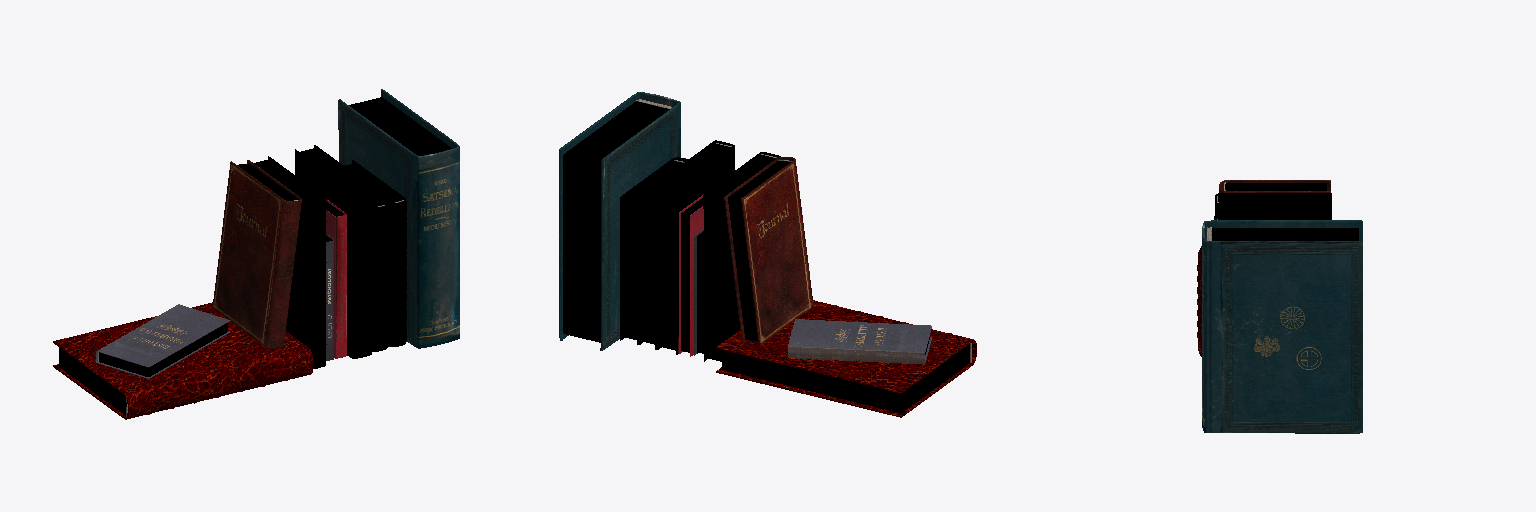
3 renders of one model, left to right at view 1: azimuth 30°, elevation 25°; view 2: azimuth 150°, elevation 25°; view 3: azimuth 270°, elevation 25°, orthographic.
Visible parts, largest first — view 1: nmodel_07_23_cover_1 nmodel_07_23_default, nmodel_07_23_default nmodel_07_23_cover_8, nmodel_07_23_default nmodel_07_23_cover_10, nmodel_07_23_default nmodel_07_23_cover_4, nmodel_07_23_default nmodel_07_23_book_paper_two, nmodel_07_23_default nmodel_07_23_cover_7, nmodel_07_23_default nmodel_07_23_cover_9, nmodel_07_23_default nmodel_07_23_cover_2, nmodel_07_23_default nmodel_07_23_book_paper_one, nmodel_07_23_default nmodel_07_23_cover_3, nmodel_07_23_default nmodel_07_23_cover_5, nmodel_07_23_default nmodel_07_23_cover_6; view 2: nmodel_07_23_default nmodel_07_23_book_paper_two, nmodel_07_23_default nmodel_07_23_book_paper_one, nmodel_07_23_default nmodel_07_23_cover_8, nmodel_07_23_cover_1 nmodel_07_23_default, nmodel_07_23_default nmodel_07_23_cover_10, nmodel_07_23_default nmodel_07_23_cover_9, nmodel_07_23_default nmodel_07_23_cover_4, nmodel_07_23_default nmodel_07_23_cover_7, nmodel_07_23_default nmodel_07_23_cover_5, nmodel_07_23_default nmodel_07_23_cover_2, nmodel_07_23_default nmodel_07_23_cover_3; view 3: nmodel_07_23_cover_1 nmodel_07_23_default, nmodel_07_23_default nmodel_07_23_book_paper_two, nmodel_07_23_default nmodel_07_23_cover_7, nmodel_07_23_default nmodel_07_23_book_paper_one, nmodel_07_23_default nmodel_07_23_cover_8.
Boxes of the visible parts, x1=… form: nmodel_07_23_cover_1 nmodel_07_23_default: x1=338, y1=89, x2=459, y2=348; nmodel_07_23_default nmodel_07_23_cover_8: x1=213, y1=160, x2=301, y2=348; nmodel_07_23_default nmodel_07_23_cover_10: x1=53, y1=302, x2=313, y2=419; nmodel_07_23_default nmodel_07_23_cover_4: x1=295, y1=145, x2=372, y2=358; nmodel_07_23_default nmodel_07_23_book_paper_two: x1=99, y1=97, x2=452, y2=376; nmodel_07_23_default nmodel_07_23_cover_7: x1=268, y1=156, x2=326, y2=368; nmodel_07_23_default nmodel_07_23_cover_9: x1=96, y1=304, x2=230, y2=378; nmodel_07_23_default nmodel_07_23_cover_2: x1=352, y1=160, x2=406, y2=346; nmodel_07_23_default nmodel_07_23_book_paper_one: x1=59, y1=163, x2=402, y2=415; nmodel_07_23_default nmodel_07_23_cover_3: x1=372, y1=192, x2=387, y2=351; nmodel_07_23_default nmodel_07_23_cover_5: x1=326, y1=199, x2=346, y2=358; nmodel_07_23_default nmodel_07_23_cover_6: x1=326, y1=234, x2=333, y2=360; nmodel_07_23_default nmodel_07_23_book_paper_two: x1=563, y1=101, x2=929, y2=361; nmodel_07_23_default nmodel_07_23_book_paper_one: x1=623, y1=161, x2=969, y2=412; nmodel_07_23_default nmodel_07_23_cover_8: x1=724, y1=157, x2=813, y2=345; nmodel_07_23_cover_1 nmodel_07_23_default: x1=559, y1=92, x2=680, y2=350; nmodel_07_23_default nmodel_07_23_cover_10: x1=716, y1=300, x2=976, y2=417; nmodel_07_23_default nmodel_07_23_cover_9: x1=788, y1=319, x2=931, y2=364; nmodel_07_23_default nmodel_07_23_cover_4: x1=657, y1=140, x2=734, y2=354; nmodel_07_23_default nmodel_07_23_cover_7: x1=703, y1=152, x2=780, y2=361; nmodel_07_23_default nmodel_07_23_cover_5: x1=678, y1=194, x2=703, y2=356; nmodel_07_23_default nmodel_07_23_cover_2: x1=620, y1=157, x2=688, y2=344; nmodel_07_23_default nmodel_07_23_cover_3: x1=638, y1=188, x2=656, y2=349; nmodel_07_23_cover_1 nmodel_07_23_default: x1=1202, y1=220, x2=1362, y2=433; nmodel_07_23_default nmodel_07_23_book_paper_two: x1=1212, y1=196, x2=1358, y2=240; nmodel_07_23_default nmodel_07_23_cover_7: x1=1214, y1=193, x2=1331, y2=219; nmodel_07_23_default nmodel_07_23_book_paper_one: x1=1225, y1=183, x2=1326, y2=190; nmodel_07_23_default nmodel_07_23_cover_8: x1=1219, y1=180, x2=1330, y2=192.
Size of the model in its own units: 36.72 by 20.06 by 15.63.
Materials: 13 (7 with a texture image).